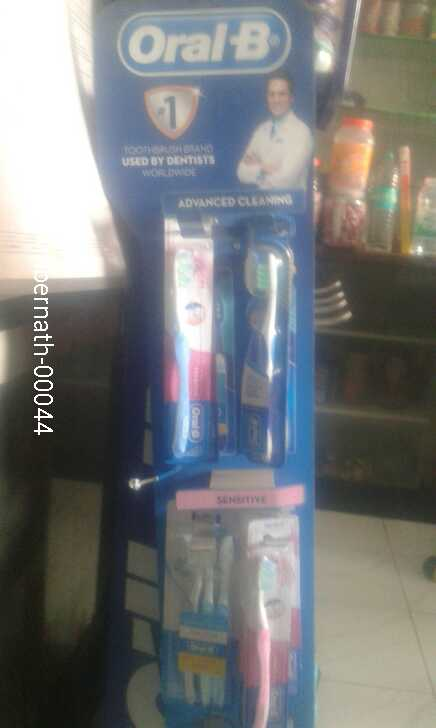oralb: (235, 242, 296, 460), (160, 243, 214, 457), (171, 518, 232, 702), (244, 524, 288, 728)
